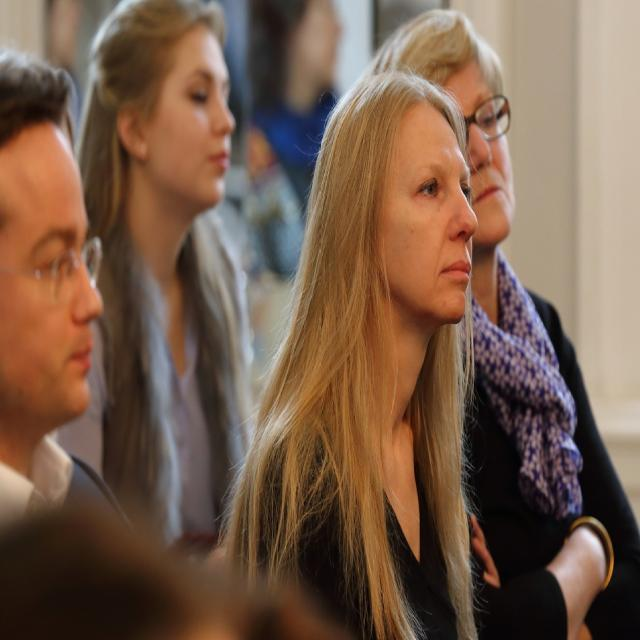Glasses: (0, 237, 100, 310), (453, 87, 519, 141)
